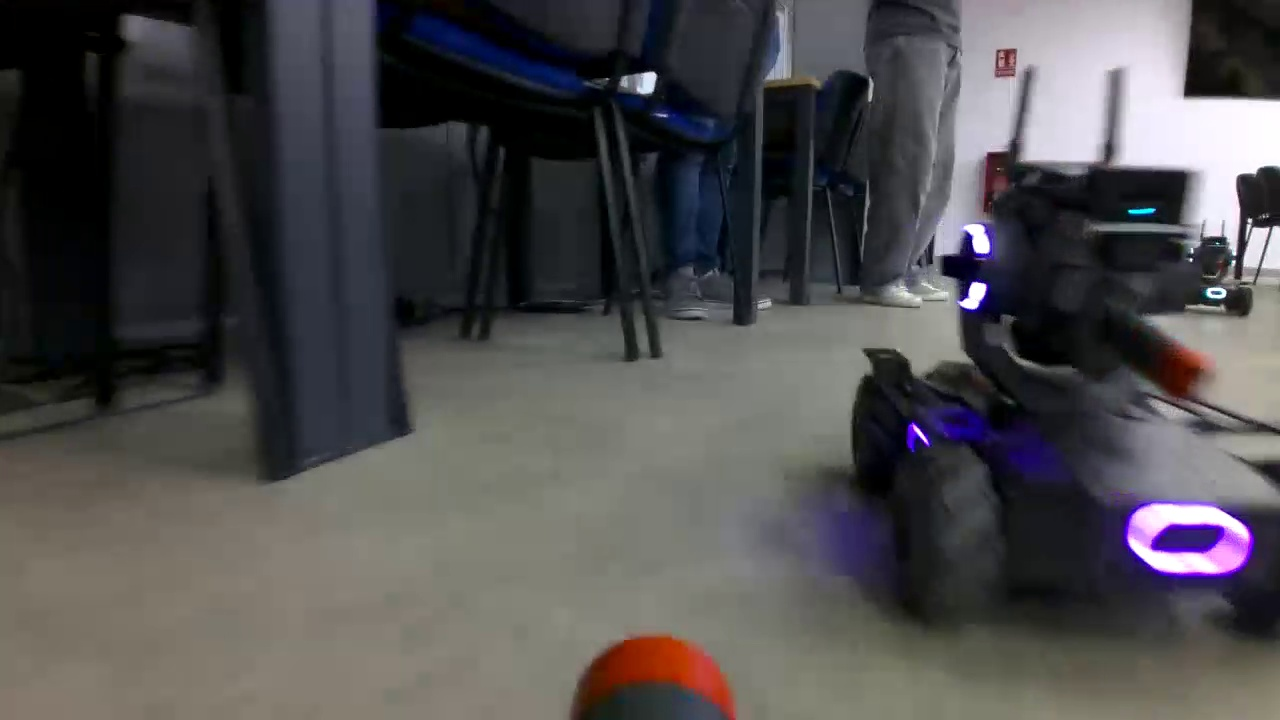robot: (850, 155, 1250, 615), (1185, 225, 1255, 315)
